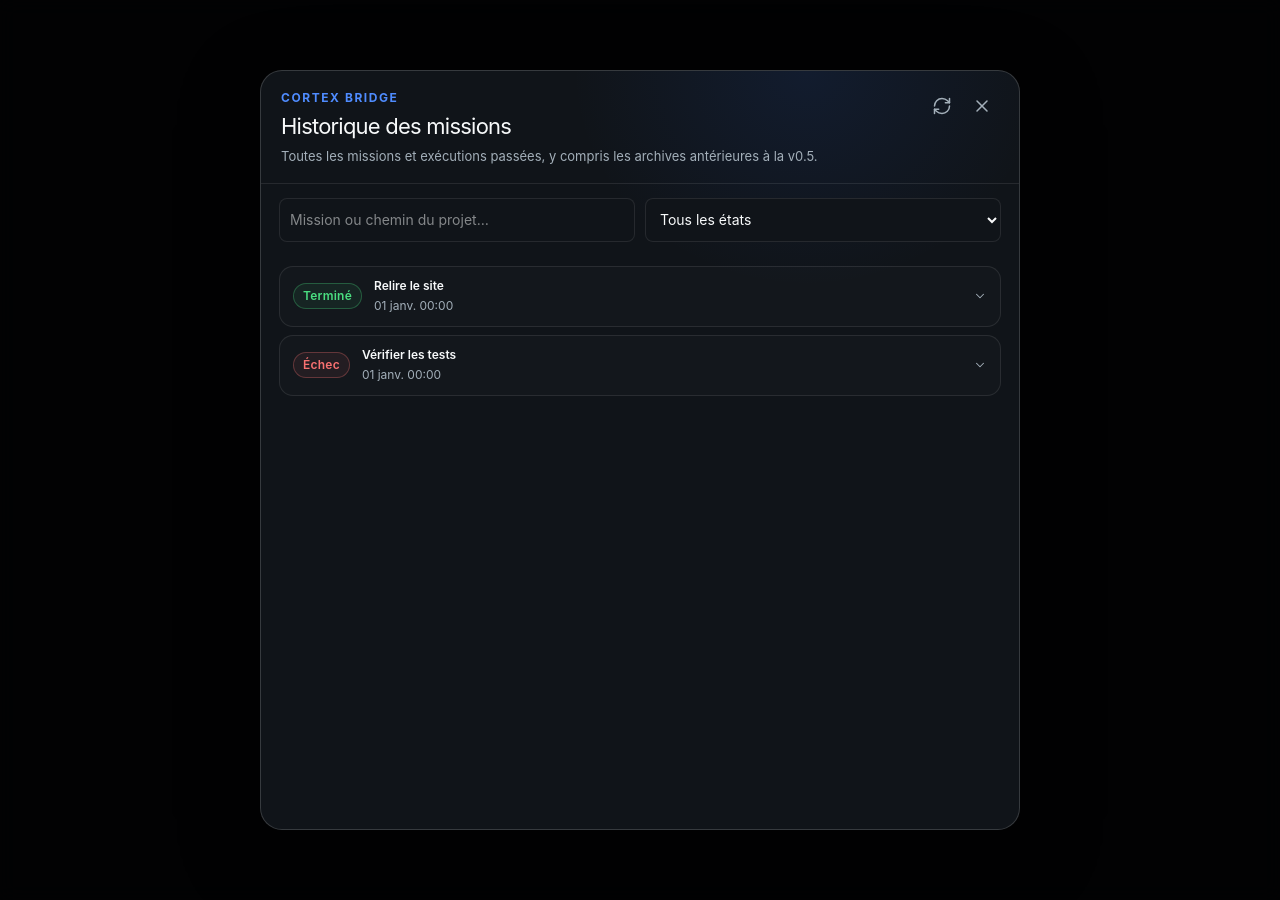
Test: filters mission history by project and status
Expected: the text "Relire le site" is shown, [374,278,444,293]
Type "/tmp/api" into the search field named "Rechercher une mission ou un projet" at [457, 220], box [279,198,635,242]
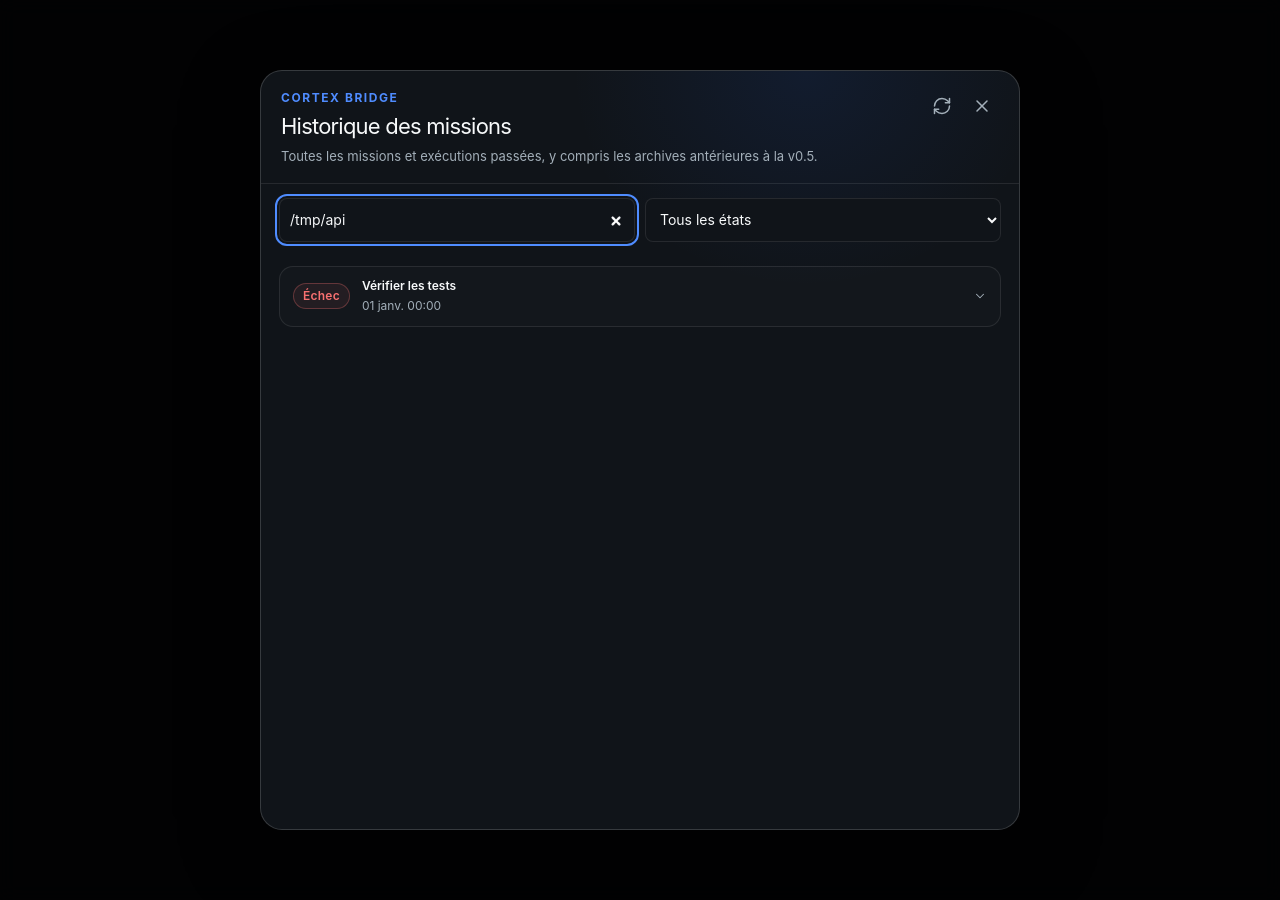
Expected: the text "Vérifier les tests" is shown, [362,278,456,293]
Result: the button "Relire le site" is gone
Select "Terminé" in the dropdown named "Filtrer par état" at [823, 220], box [645,198,1001,242]
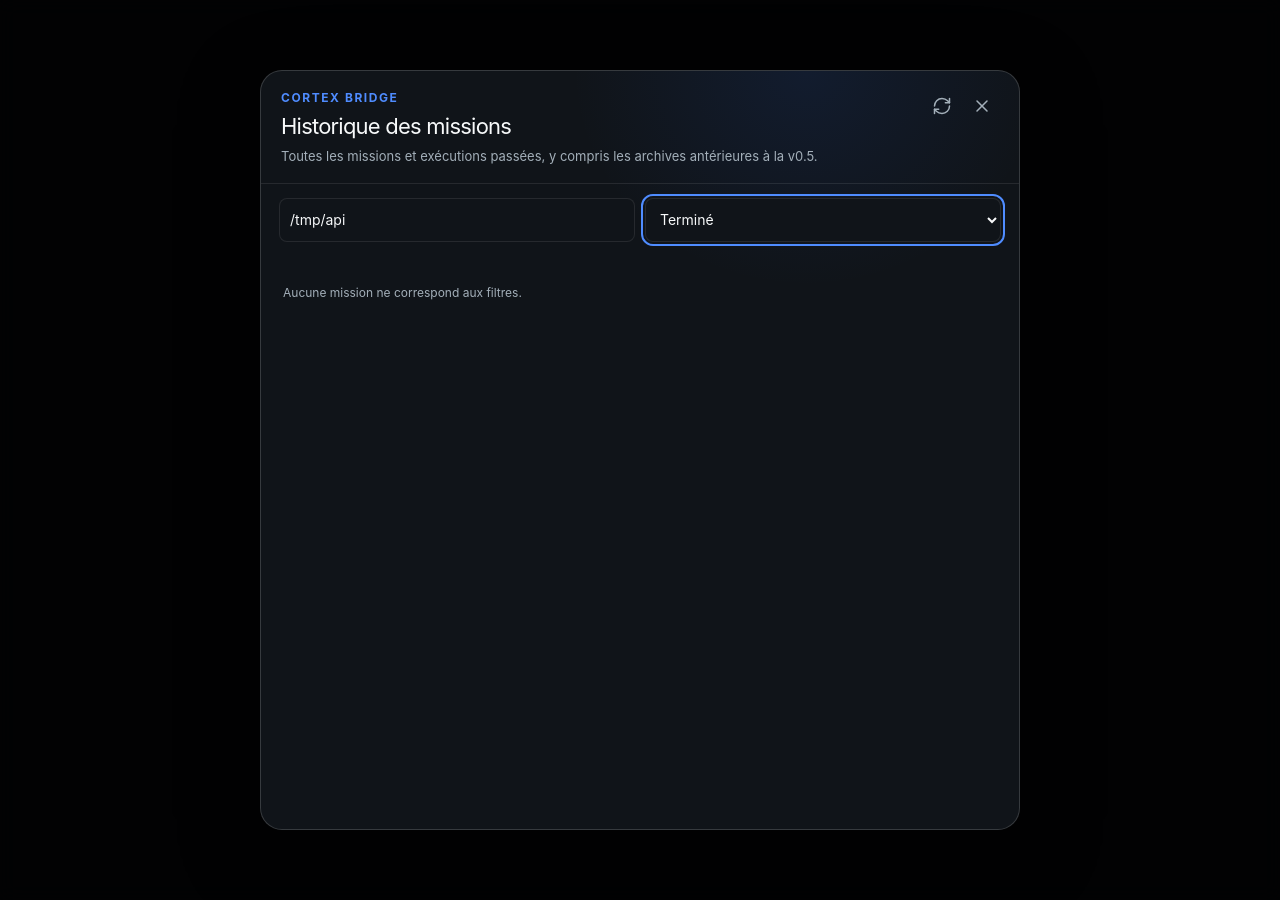
Result: the button "Vérifier les tests" is gone
